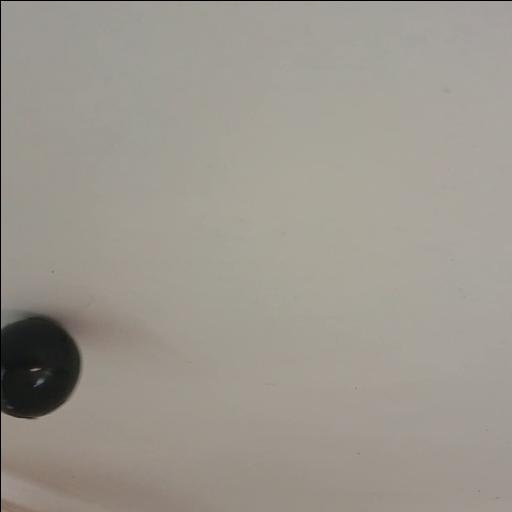dead: (0, 311, 81, 419)
